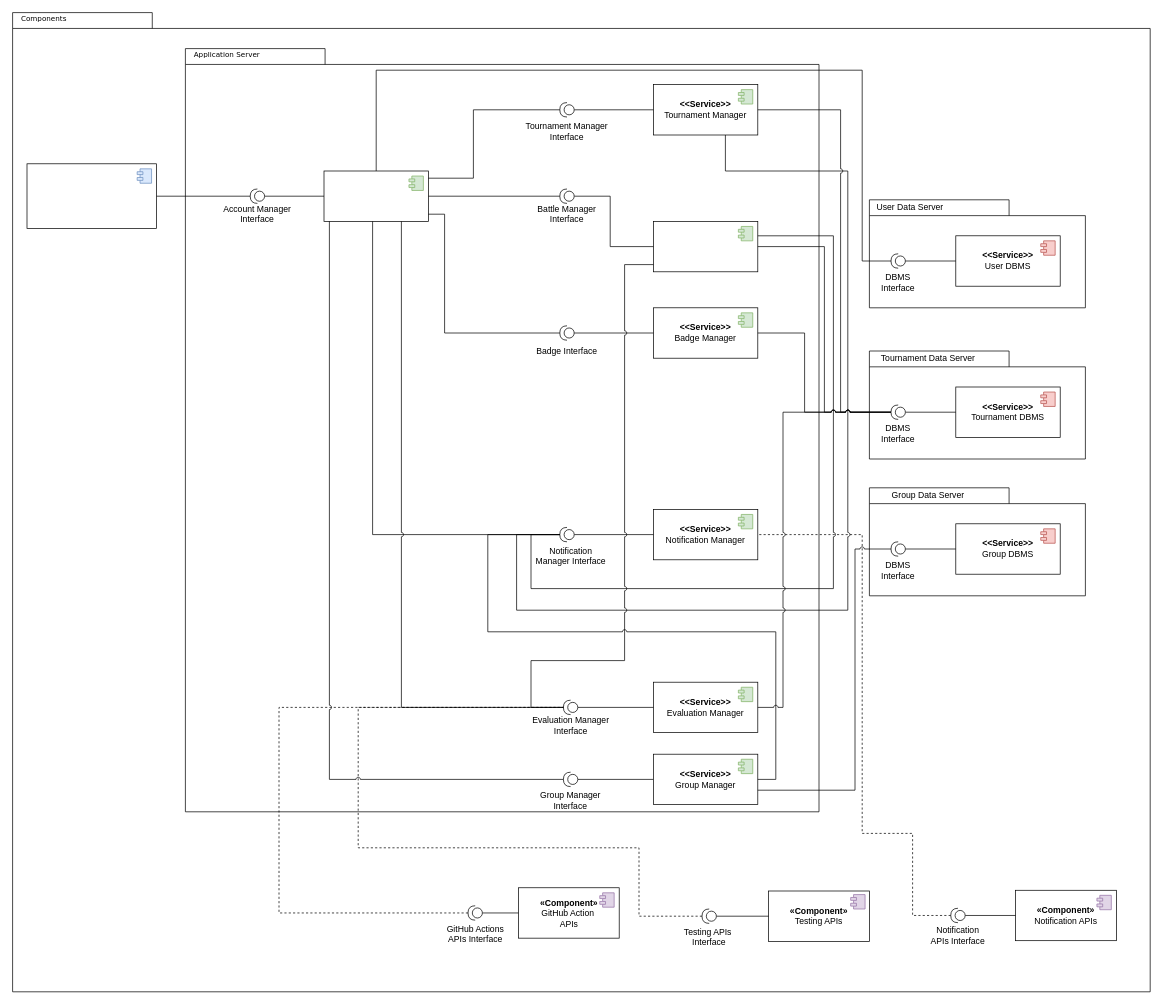
Some shapes in this 1163 by 1004 pixel diagram are drawn without their labels. The shapes that lost their labels are listed below. From the top down, each one's centre as x and y in pixels, then its label:
At point 91,196: "<<Component>> Web App".
At point 375,195: "<<Service>> Account Manager".
At point 705,246: "<<Service>> Battle Manager".
